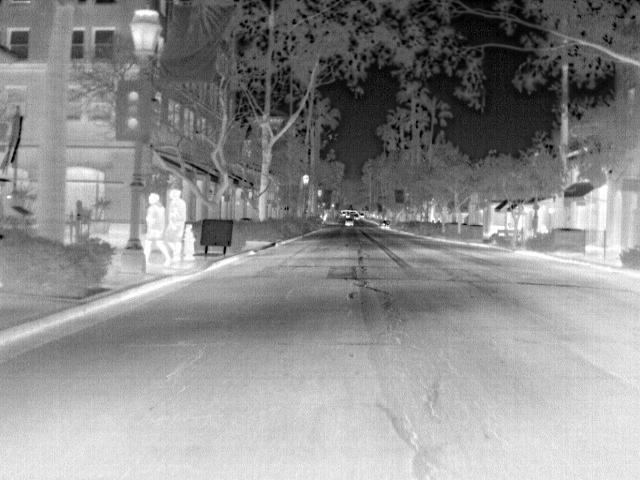car: (343, 218, 355, 230)
person: (143, 192, 172, 266), (166, 186, 187, 265)
